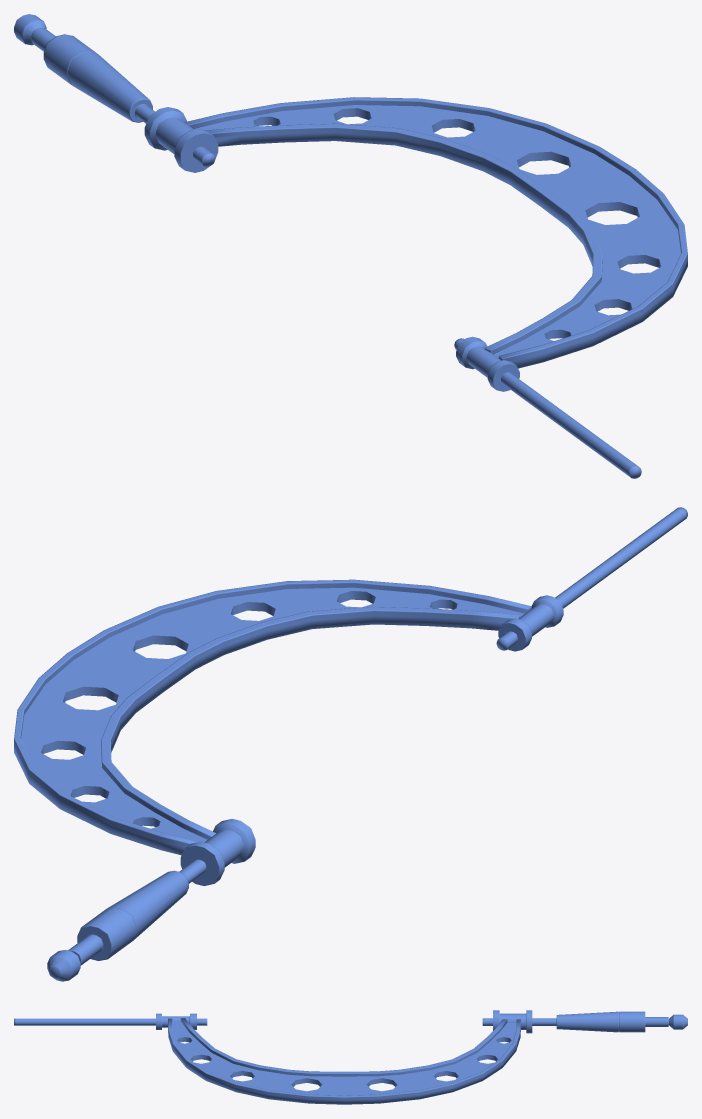
Rendered from clamp_special_tool.fbx.
3 renders of one model, top to bottom at view 1: azimuth 30°, elevation 25°; view 2: azimuth 150°, elevation 25°; view 3: azimuth 270°, elevation 25°, orthographic. The views are drawn at different scales.
Parts seen in each view (by area): view 1: Circle.088, Circle.091, Circle.089; view 2: Circle.088, Circle.091, Circle.089; view 3: Circle.088, Circle.091, Circle.089.
Boxes of the visible parts, x1,y1,x2,y2 form: Circle.088: (144, 97, 687, 391); Circle.091: (14, 14, 215, 166); Circle.089: (454, 338, 641, 478); Circle.088: (14, 579, 563, 885); Circle.091: (47, 859, 206, 981); Circle.089: (496, 507, 687, 650); Circle.088: (156, 1010, 532, 1104); Circle.091: (482, 1011, 687, 1032); Circle.089: (14, 1018, 207, 1025).
Size of the model in its own units: 944 by 106 by 3138.
